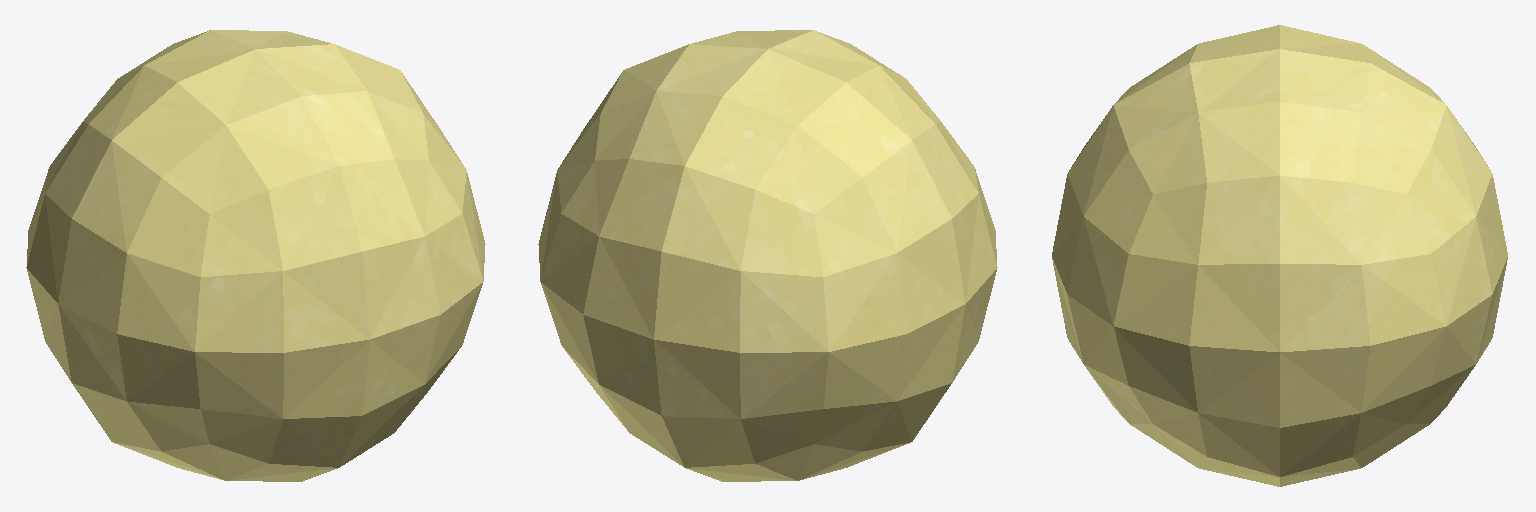
3 views of the same model, side by side, from view 1: azimuth 30°, elevation 25°; view 2: azimuth 150°, elevation 25°; view 3: azimuth 270°, elevation 25° (orthographic).
Parts seen in each view (by area): view 1: Ball03; view 2: Ball03; view 3: Ball03.
Boxes of the visible parts, <box> form: Ball03: <box>26,30,485,481</box>; Ball03: <box>538,30,997,481</box>; Ball03: <box>1052,25,1507,486</box>.
Bounding box in the file's own units: 0.6404 × 0.6404 × 0.6404.
2 materials, 1 textured.